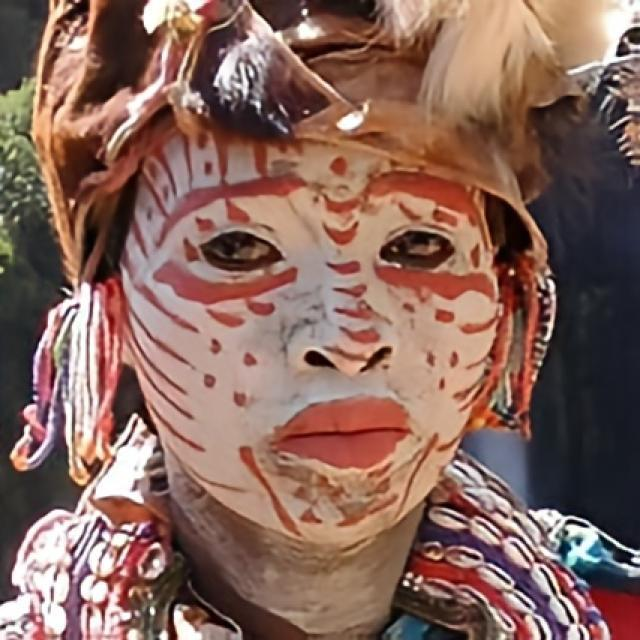sad: (122, 84, 503, 545)
